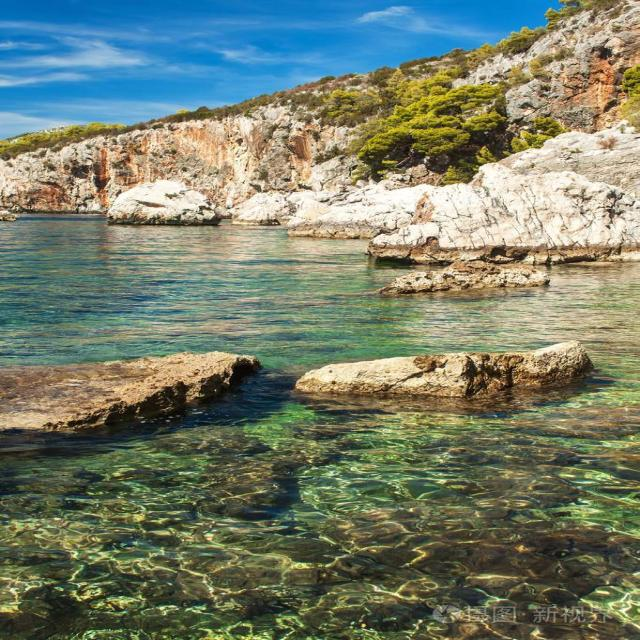reef: (36, 302, 610, 421)
